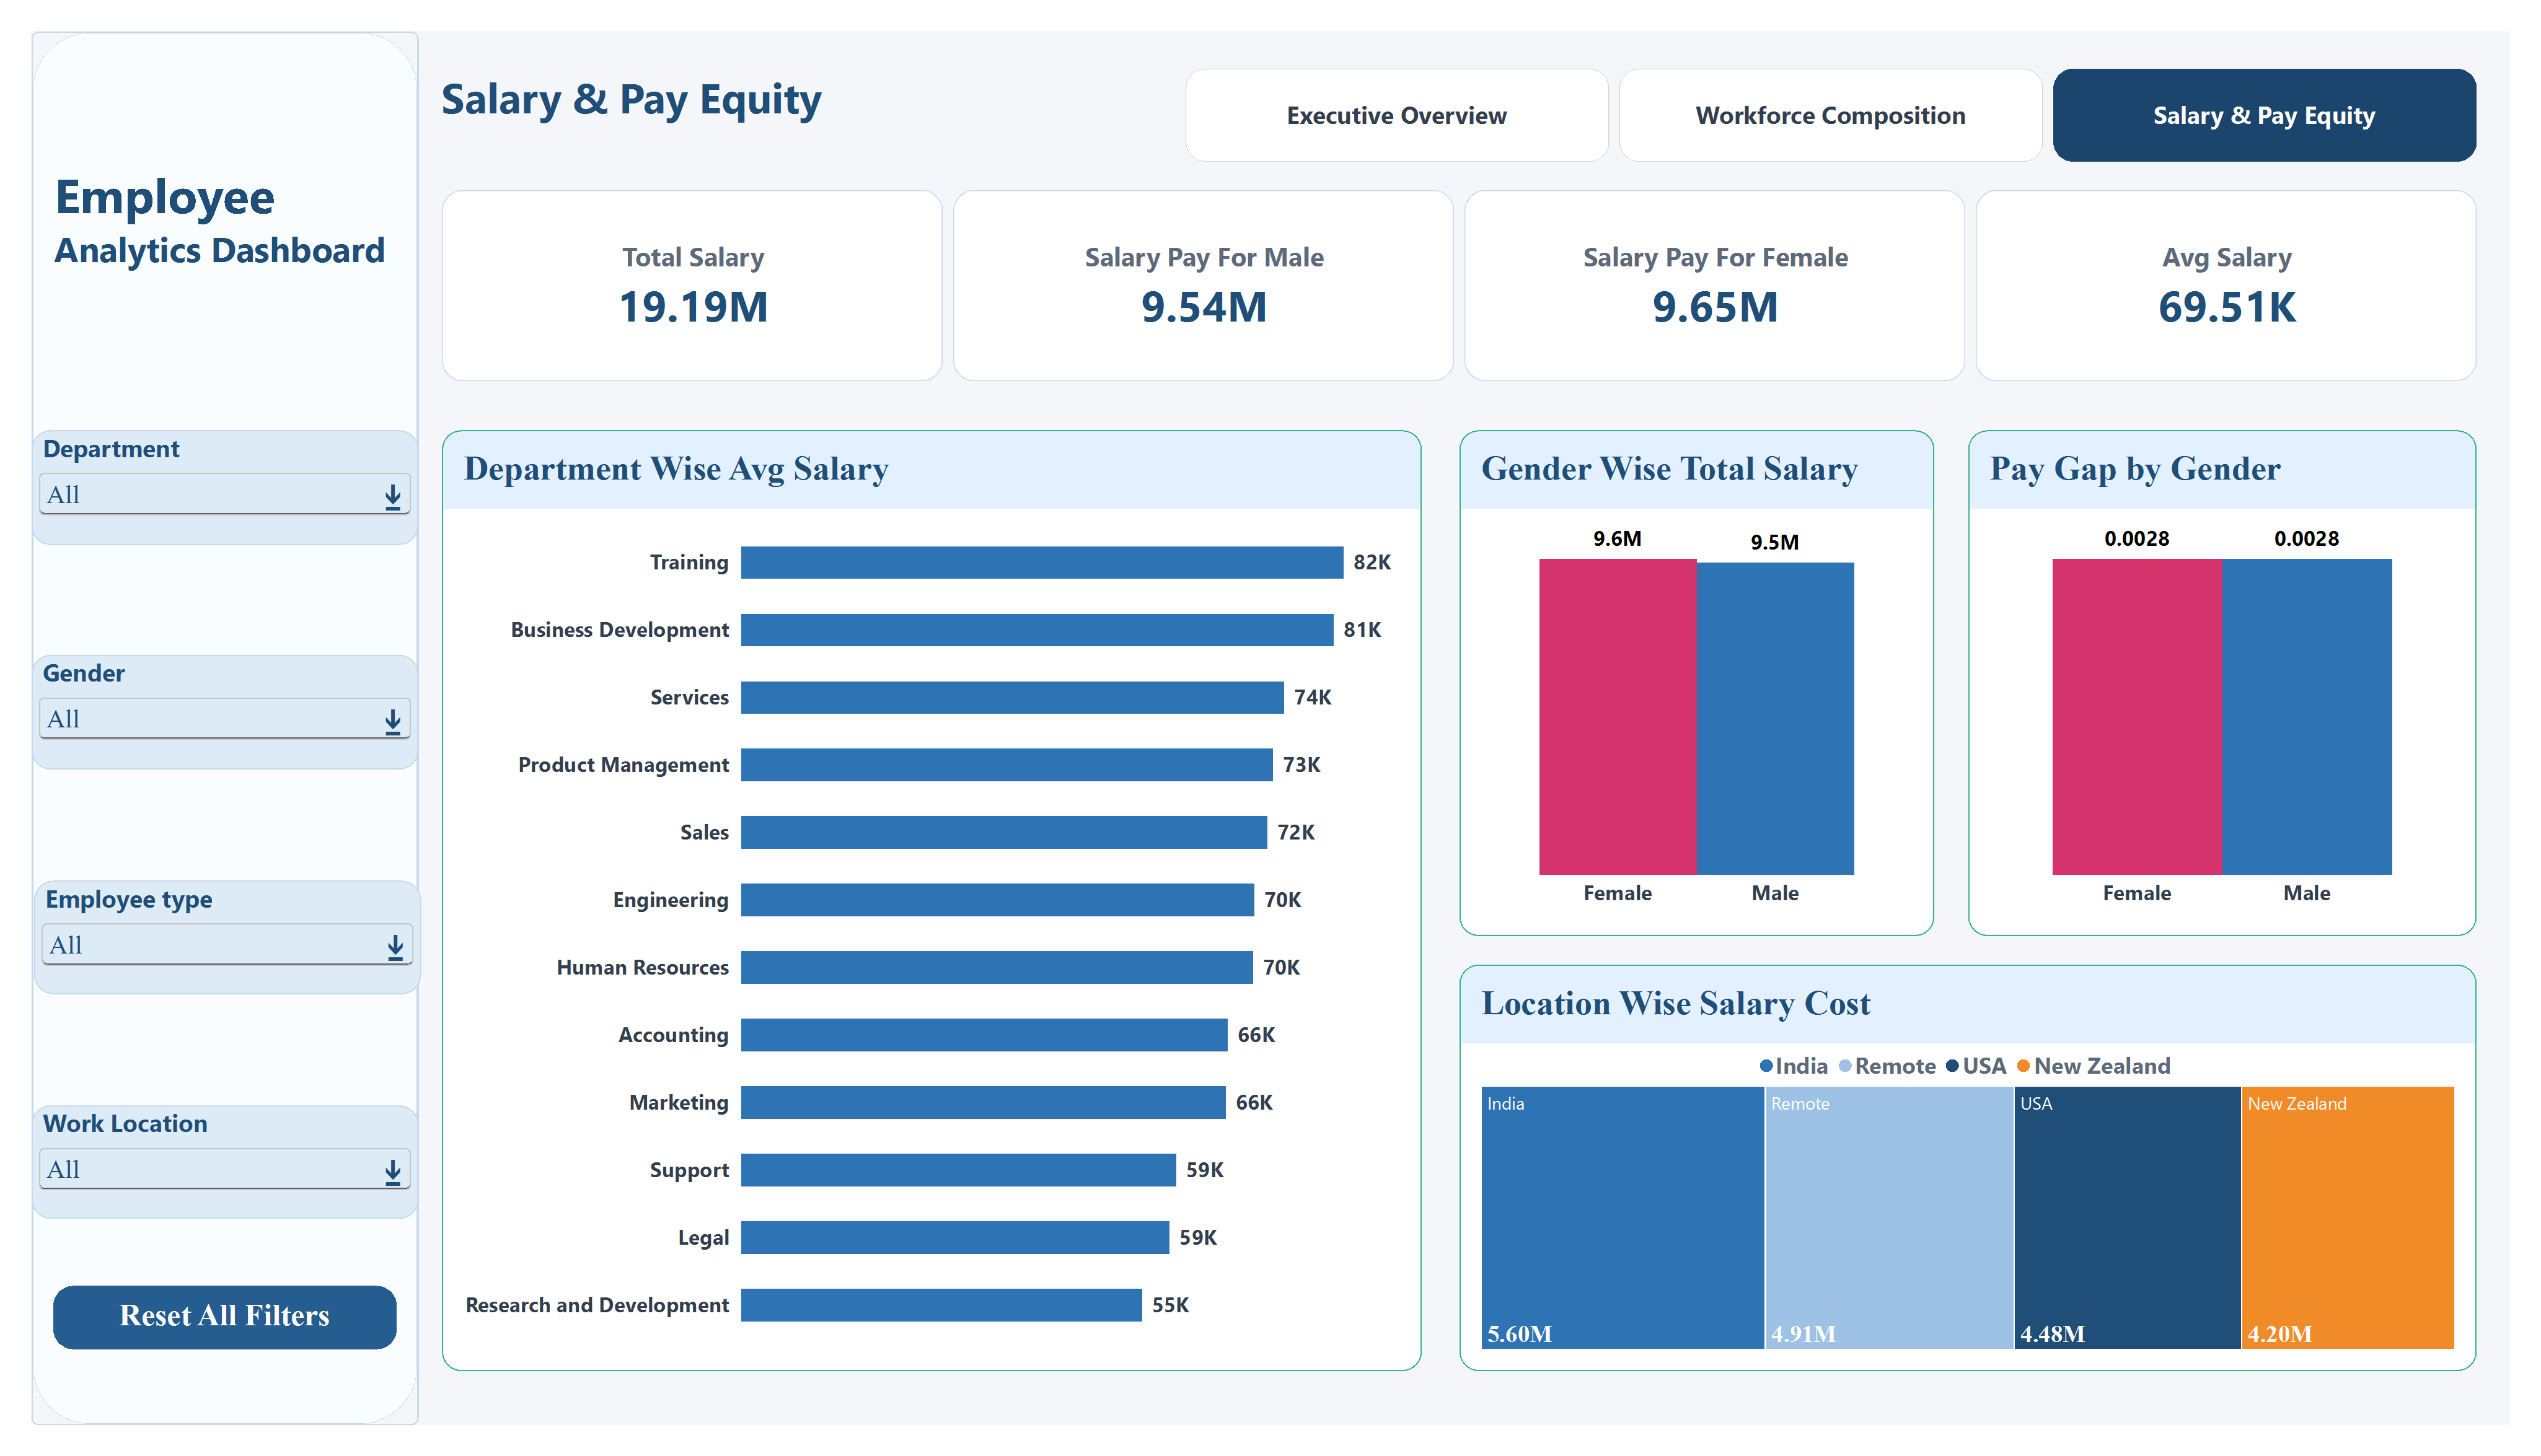

The page's visual inventory and layout, read from the dashboard file:
{"tool":"powerbi","page":{"name":"Salary & Pay Equity","canvas":[1920,1080],"ordinal":2},"visuals":[{"type":"cardVisual","fields":{"Data":["All Measures.Total Salary","All Measures.Salary Pay For Male","All Measures.Salary Pay For Feale","All Measures.Avg Salary"]},"box":[318.4,123.3,1575.5,147.2],"z":0},{"type":"shape","box":[0,0,300,1080.4],"z":1000},{"type":"columnChart","title":"Gender Wise Total Salary","fields":{"Category":["Employees Data.Gender"],"Y":["All Measures.Total Salary"]},"box":[1106.1,309.2,368.1,392],"z":2000},{"type":"treemap","title":"Location Wise Salary Cost","fields":{"Group":["Employees Data.Work Locationm"],"Values":["All Measures.Total Salary"]},"box":[1106.1,723.3,787.7,314.7],"z":3000},{"type":"textbox","box":[318.4,29.4,368.1,71.8],"z":4000},{"type":"slicer","fields":{"Values":["Employees Data.Department"]},"box":[0,309.2,300,88.3],"z":5000},{"type":"slicer","fields":{"Values":["Employees Data.Employee type"]},"box":[1.8,657.7,300,88.3],"z":6000},{"type":"slicer","fields":{"Values":["Employees Data.Gender"]},"box":[0,483.4,300,88.3],"z":7000},{"type":"slicer","fields":{"Values":["Employees Data.Work Locationm"]},"box":[0,831.9,300,88.3],"z":8000},{"type":"barChart","title":"Department Wise Avg Salary","fields":{"Category":["Employees Data.Department"],"Y":["All Measures.Avg Salary"]},"box":[318.4,309.2,758.3,728.8],"z":9000},{"type":"columnChart","title":" Pay Gap by Gender","fields":{"Category":["Employees Data.Gender"],"Y":["All Measures.Gender Pay Gap"]},"box":[1500,309.2,393.9,392],"z":10000},{"type":"pageNavigator","box":[894.5,29.4,999.4,71.8],"z":11000},{"type":"textbox","box":[18.4,101.2,281.6,150.9],"z":12000},{"type":"actionButton","box":[16.6,971.8,266.9,49.7],"z":13000}]}

Visuals, with their boxes on the page's 1920x1080 design canvas (x1, y1, x2, y2). These are canvas units, not pixel positions in the 2541x1456 screenshot, which may show the page scaled, cropped or inside an application window:
cardVisual - All Measures.Total Salary x All Measures.Salary Pay For Male: <bbox>318, 123, 1894, 270</bbox>
shape: <bbox>0, 0, 300, 1080</bbox>
"Gender Wise Total Salary" columnChart: <bbox>1106, 309, 1474, 701</bbox>
"Location Wise Salary Cost" treemap: <bbox>1106, 723, 1894, 1038</bbox>
textbox: <bbox>318, 29, 686, 101</bbox>
slicer - Employees Data.Department: <bbox>0, 309, 300, 398</bbox>
slicer - Employees Data.Employee type: <bbox>2, 658, 302, 746</bbox>
slicer - Employees Data.Gender: <bbox>0, 483, 300, 572</bbox>
slicer - Employees Data.Work Locationm: <bbox>0, 832, 300, 920</bbox>
"Department Wise Avg Salary" barChart: <bbox>318, 309, 1077, 1038</bbox>
" Pay Gap by Gender" columnChart: <bbox>1500, 309, 1894, 701</bbox>
pageNavigator: <bbox>894, 29, 1894, 101</bbox>
textbox: <bbox>18, 101, 300, 252</bbox>
actionButton: <bbox>17, 972, 284, 1022</bbox>
